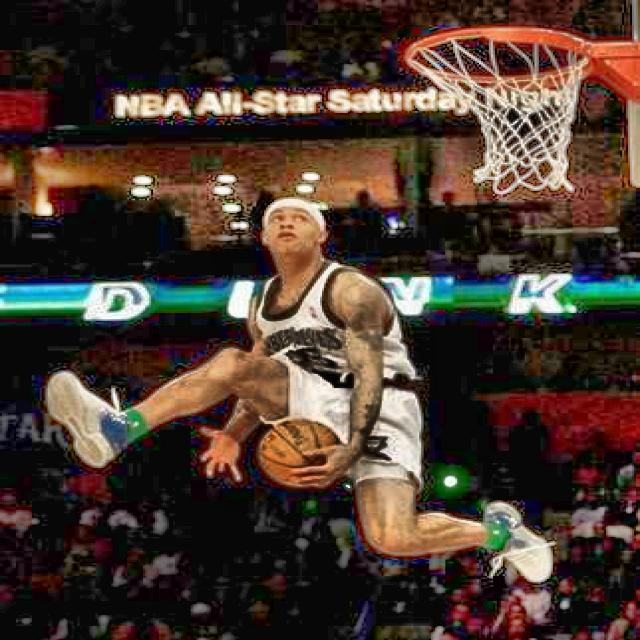board: (256, 417, 336, 487)
rim: (406, 25, 596, 196)
